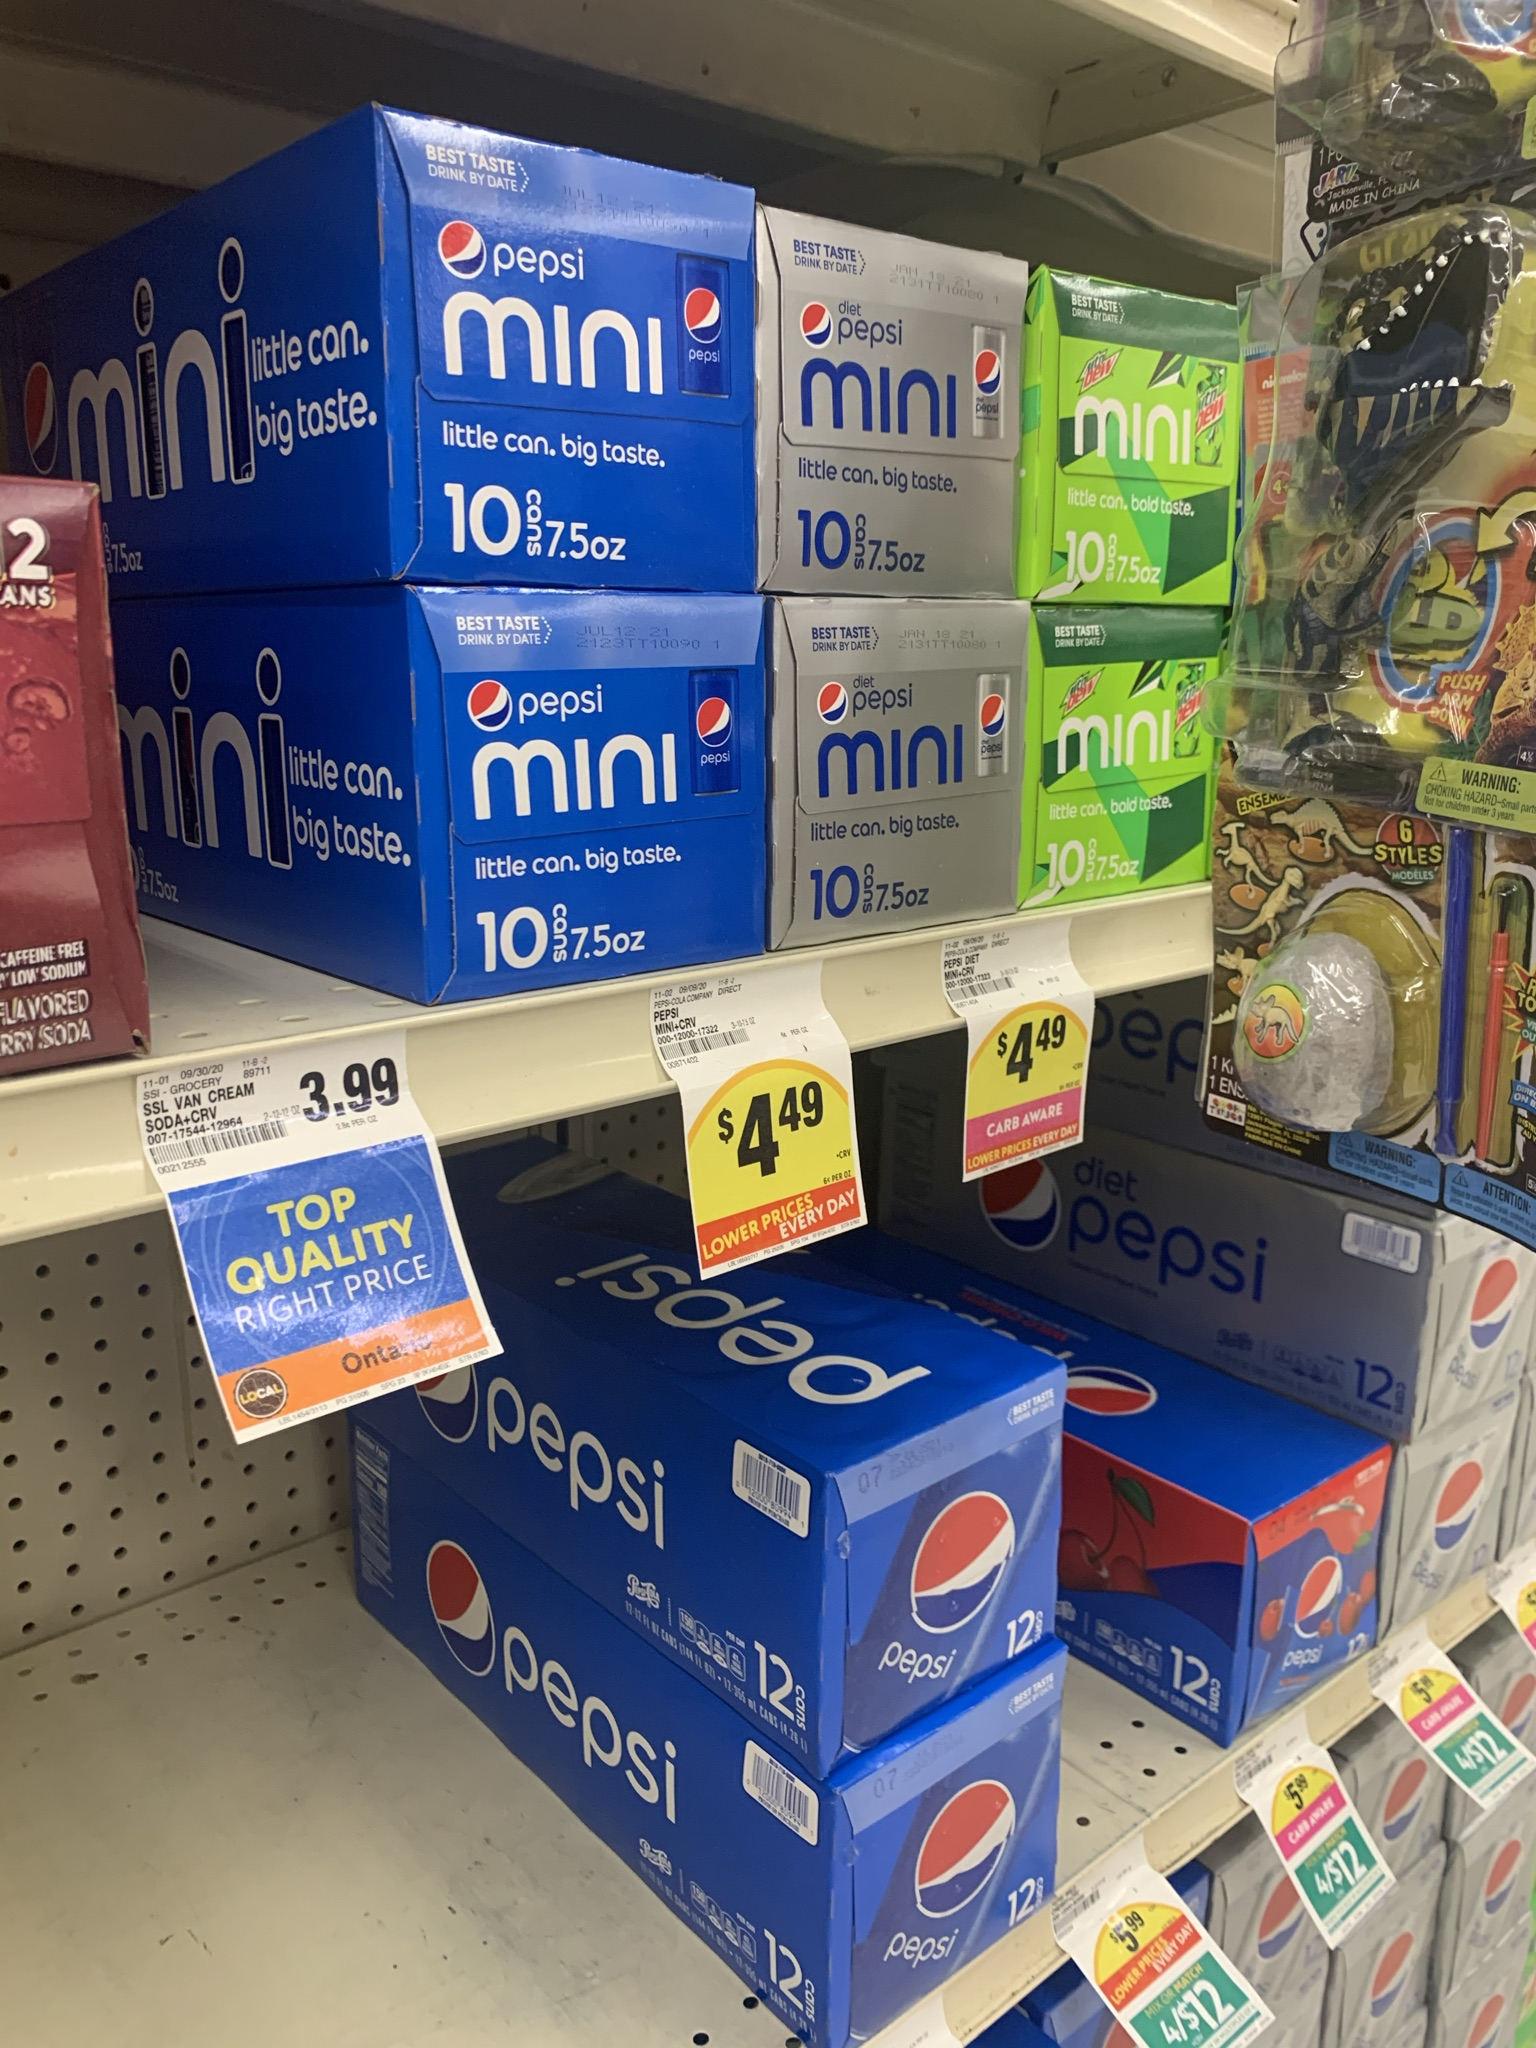box: (386, 156, 744, 581), (597, 1374, 1058, 1634), (450, 601, 753, 956), (786, 268, 1025, 590), (799, 619, 1026, 905), (1050, 305, 1238, 600), (712, 1771, 1041, 1913), (1054, 648, 1207, 897), (1254, 1505, 1375, 1667)
